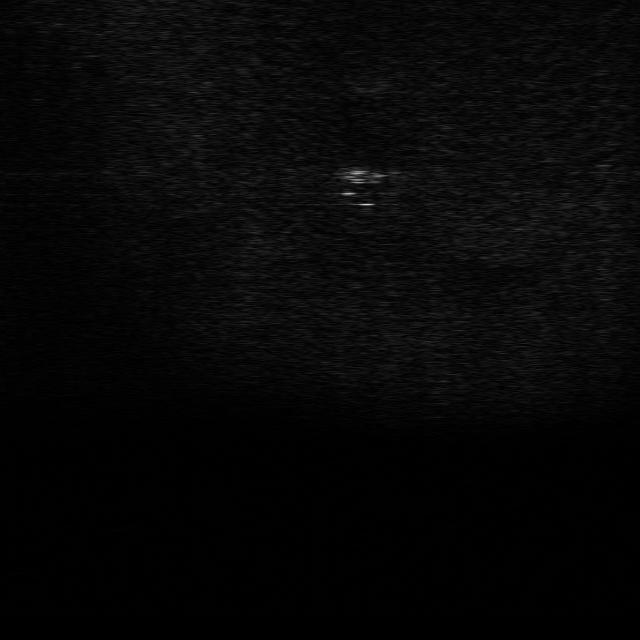plane: (333, 164, 395, 189)
